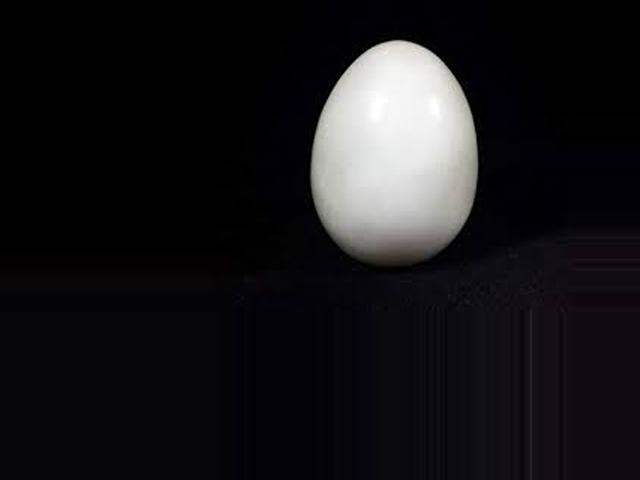egg: (313, 41, 476, 269)
